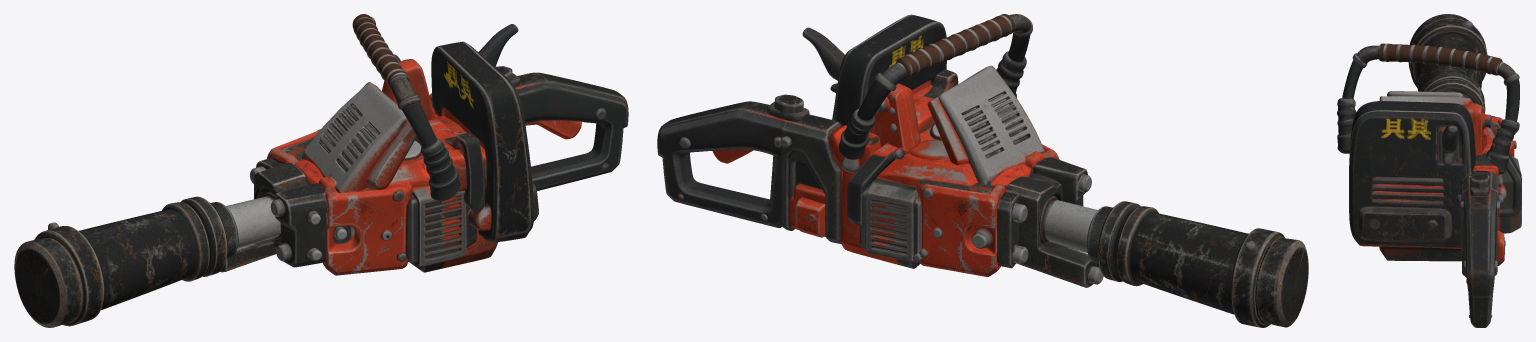
Rendered from stun_ram_meshy_2026-11-15.glb.
The picture shows the model from 3 angles, left to right: view 1: azimuth 30°, elevation 25°; view 2: azimuth 150°, elevation 25°; view 3: azimuth 270°, elevation 25°; orthographic projection. The views are drawn at different scales.
Size of the model in its own units: 1.9 by 0.6333 by 0.5907.
1 material, 1 textured.
